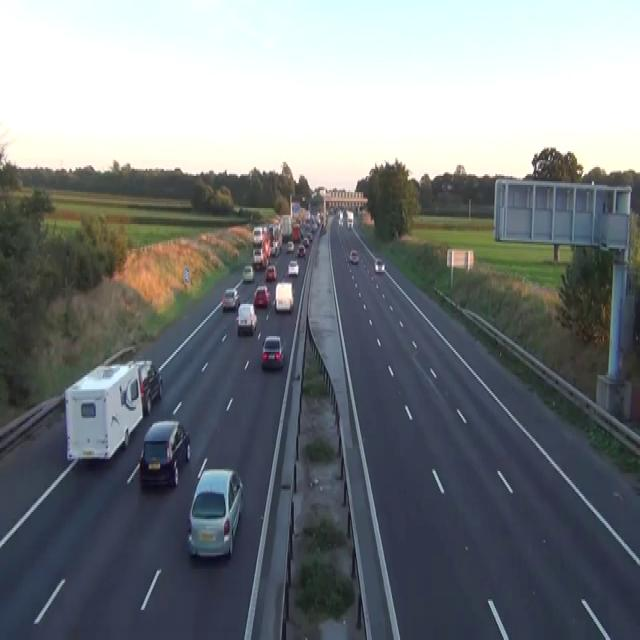Car: (186, 468, 243, 560), (139, 420, 190, 487), (108, 357, 163, 416), (135, 359, 163, 414), (261, 334, 284, 370), (235, 302, 257, 334), (274, 281, 293, 311), (221, 288, 240, 311), (253, 284, 270, 308), (252, 247, 264, 269), (242, 263, 254, 283), (287, 260, 299, 276), (265, 265, 276, 281), (374, 258, 385, 272), (349, 249, 358, 263), (296, 244, 305, 258), (270, 242, 278, 256), (286, 240, 294, 252), (302, 237, 309, 247), (347, 219, 352, 229), (321, 224, 326, 233), (338, 217, 343, 226)
Truck: (64, 358, 162, 462), (346, 210, 353, 229)
